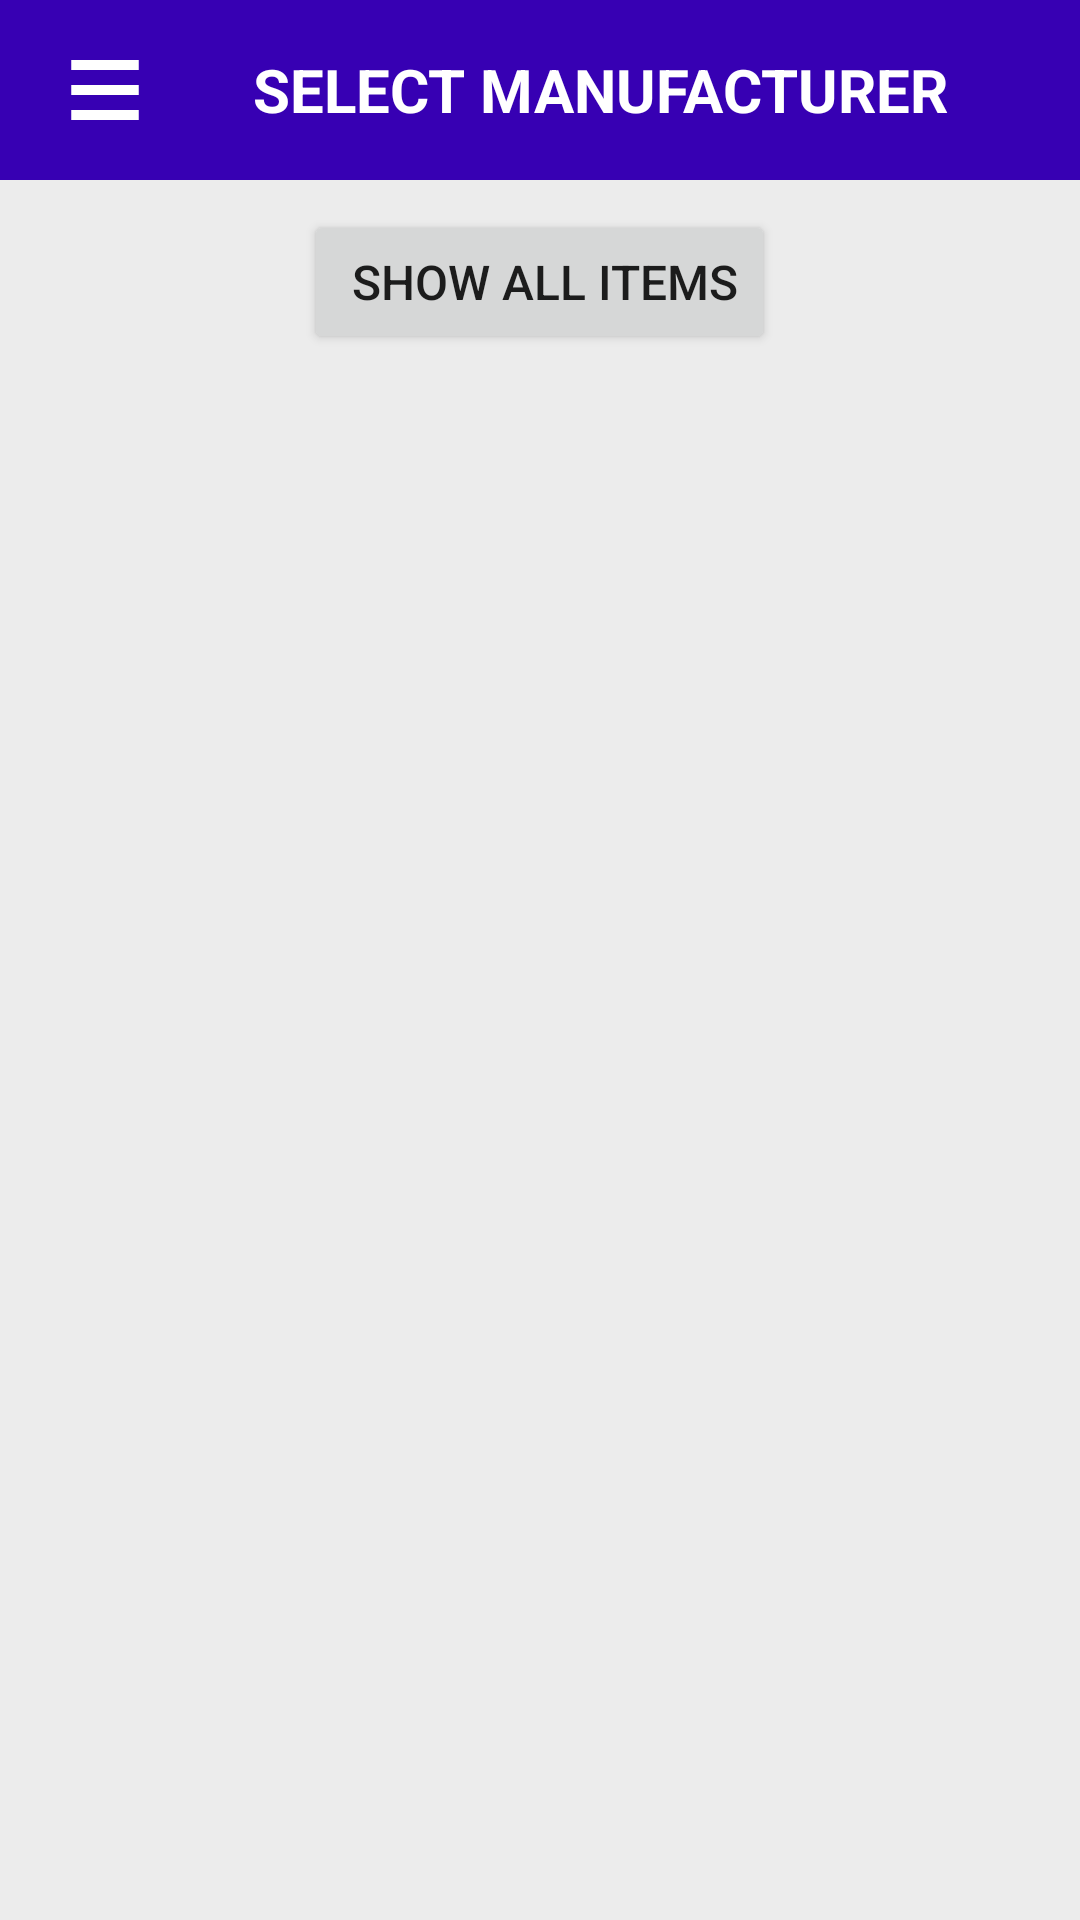

Icons on this 1080×1920 Android screen, each with its box as box=[x1, y1, x2, y2]:
bar: box=[71, 60, 139, 120]
